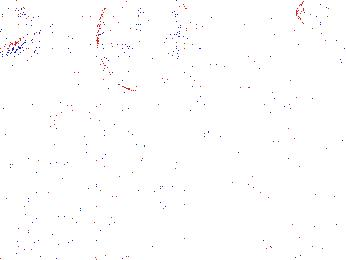moon jellyfish: (44, 102, 154, 199), (97, 1, 192, 92), (198, 86, 299, 139), (192, 11, 281, 53), (296, 1, 346, 68), (1, 1, 33, 61)
